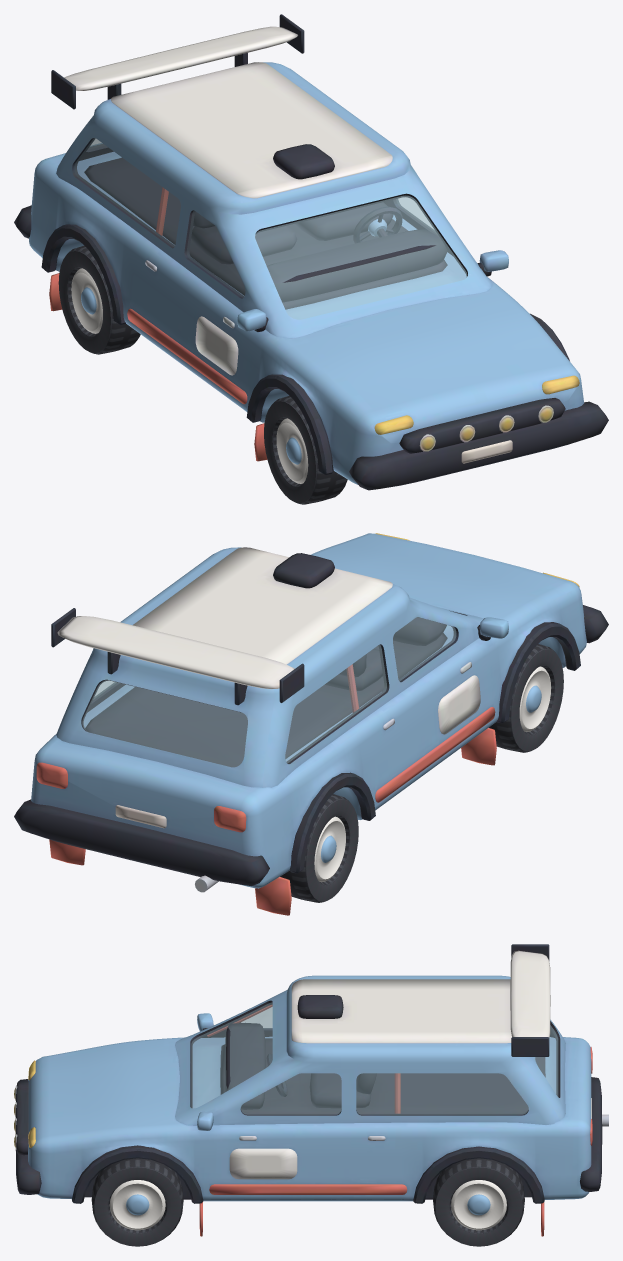
The model's file is rally-car.glb.
3 renders of one model, top to bottom at view 1: azimuth 30°, elevation 25°; view 2: azimuth 150°, elevation 25°; view 3: azimuth 270°, elevation 25°, orthographic. The views are drawn at different scales.
Parts seen in each view (by area): view 1: rally-car_body, rally-car_windows, rally-car_wheel_fr, rally-car_wheel_rr; view 2: rally-car_body, rally-car_windows, rally-car_wheel_rr, rally-car_wheel_fr; view 3: rally-car_body, rally-car_windows, rally-car_wheel_fl, rally-car_wheel_rl.
Part boxes in pixels (x1,y1,x2,y2): rally-car_body: (14, 14, 608, 490); rally-car_windows: (74, 138, 466, 319); rally-car_wheel_fr: (264, 396, 347, 504); rally-car_wheel_rr: (58, 245, 140, 354); rally-car_body: (14, 533, 608, 915); rally-car_windows: (82, 617, 456, 766); rally-car_wheel_rr: (280, 794, 358, 902); rally-car_wheel_fr: (489, 644, 563, 752); rally-car_body: (14, 944, 608, 1236); rally-car_windows: (191, 1002, 557, 1114); rally-car_wheel_fl: (91, 1158, 183, 1246); rally-car_wheel_rl: (433, 1158, 524, 1246).
Bounding box in the file's own units: 1.9 × 1.69 × 4.39.
Materials: 6 (2 with a texture image).
